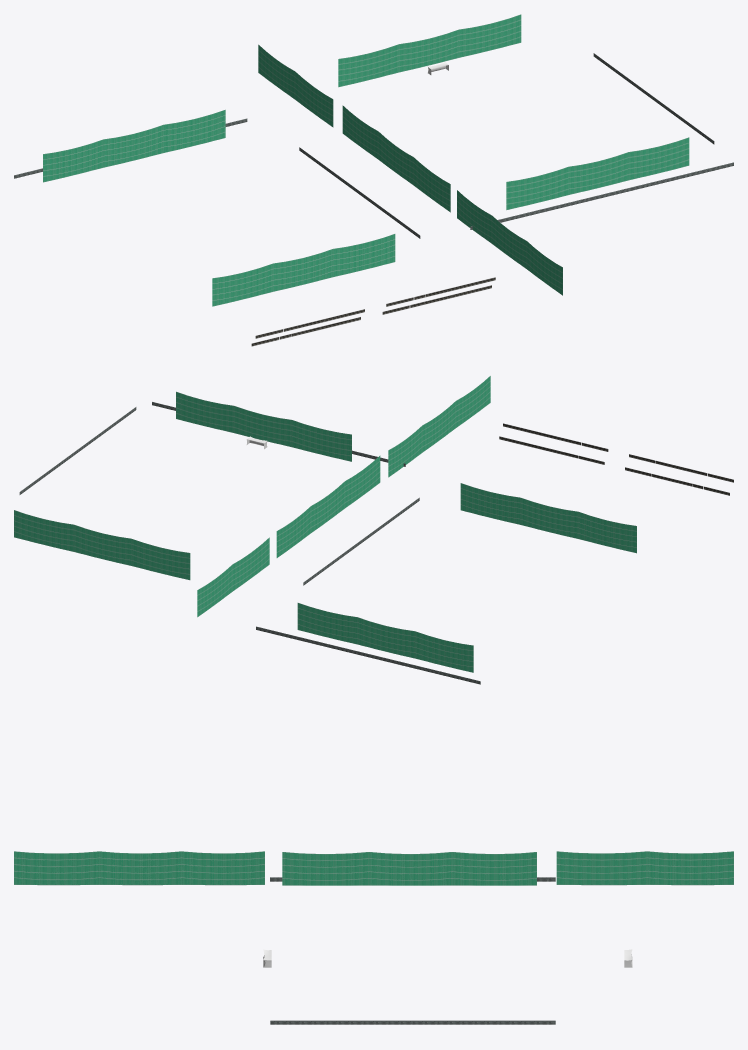
Rendered from st_030_net.fbx.
3 renders of one model, top to bottom at view 1: azimuth 30°, elevation 25°; view 2: azimuth 150°, elevation 25°; view 3: azimuth 270°, elevation 25°, orthographic. The views are drawn at different scales.
Parts seen in each view (by area): view 1: st_030_net1; view 2: st_030_net1; view 3: st_030_net1.
Boxes of the visible parts, x1,y1,x2,y2 form: st_030_net1: (14,14,733,346); st_030_net1: (14,376,733,684); st_030_net1: (14,851,733,1024).
Bounding box in the file's own units: 220 × 20.35 × 214.
